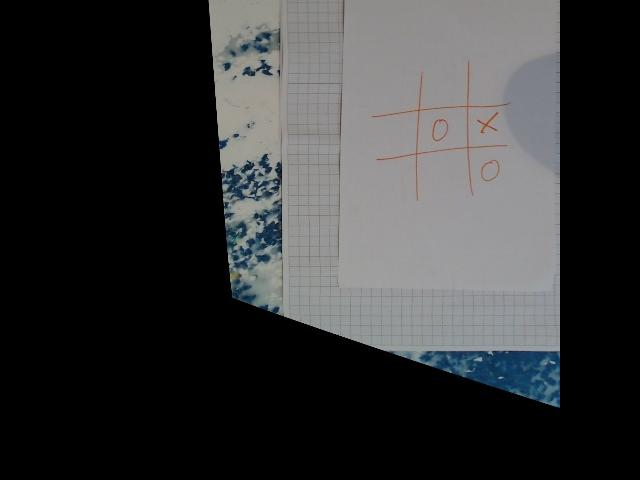O: (421, 118, 448, 146), (472, 162, 500, 186)
X: (472, 113, 497, 137)
grid: (373, 66, 510, 204)
